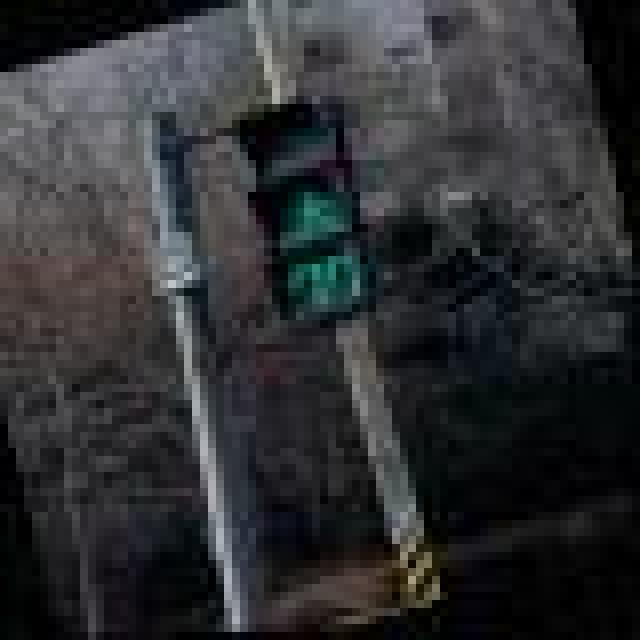greenlight: (239, 104, 372, 261)
